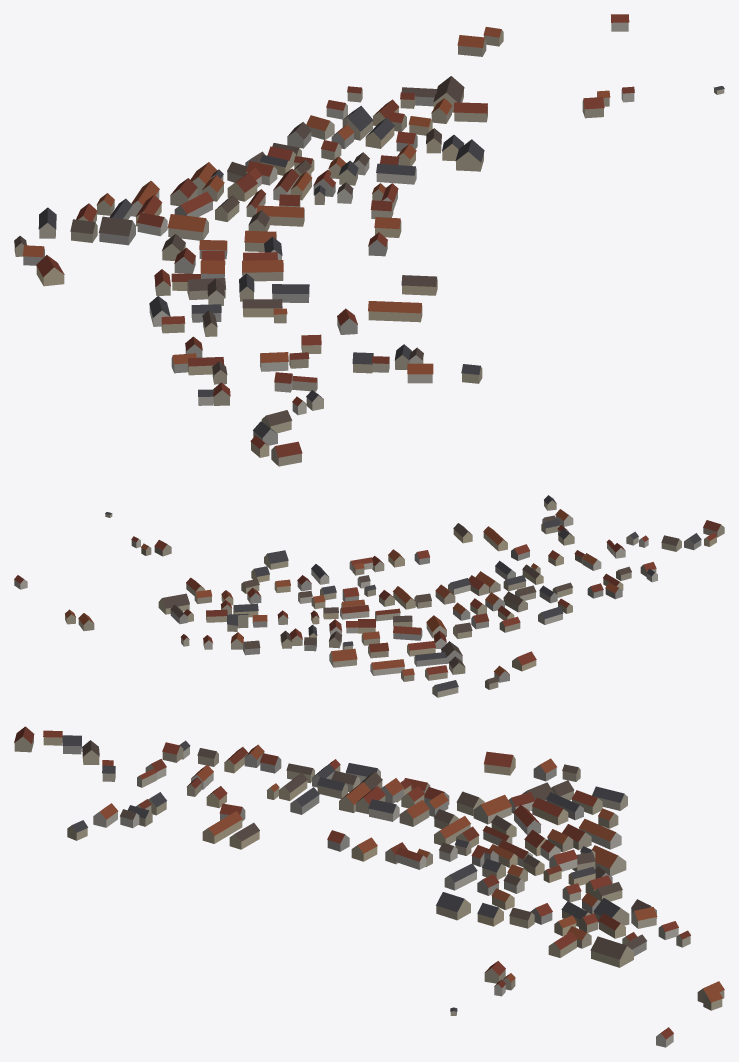
3 views of the same model, one above another, from view 1: azimuth 30°, elevation 25°; view 2: azimuth 150°, elevation 25°; view 3: azimuth 270°, elevation 25° (orthographic). The views are drawn at different scales.
Visible parts, largest first — view 1: buildings; view 2: buildings; view 3: buildings.
Part boxes in pixels (x1=…): buildings: x1=14, y1=14, x2=724, y2=466; buildings: x1=14, y1=495, x2=724, y2=697; buildings: x1=14, y1=726, x2=724, y2=1047.
Size of the model in its own units: 476 by 42.36 by 451.
